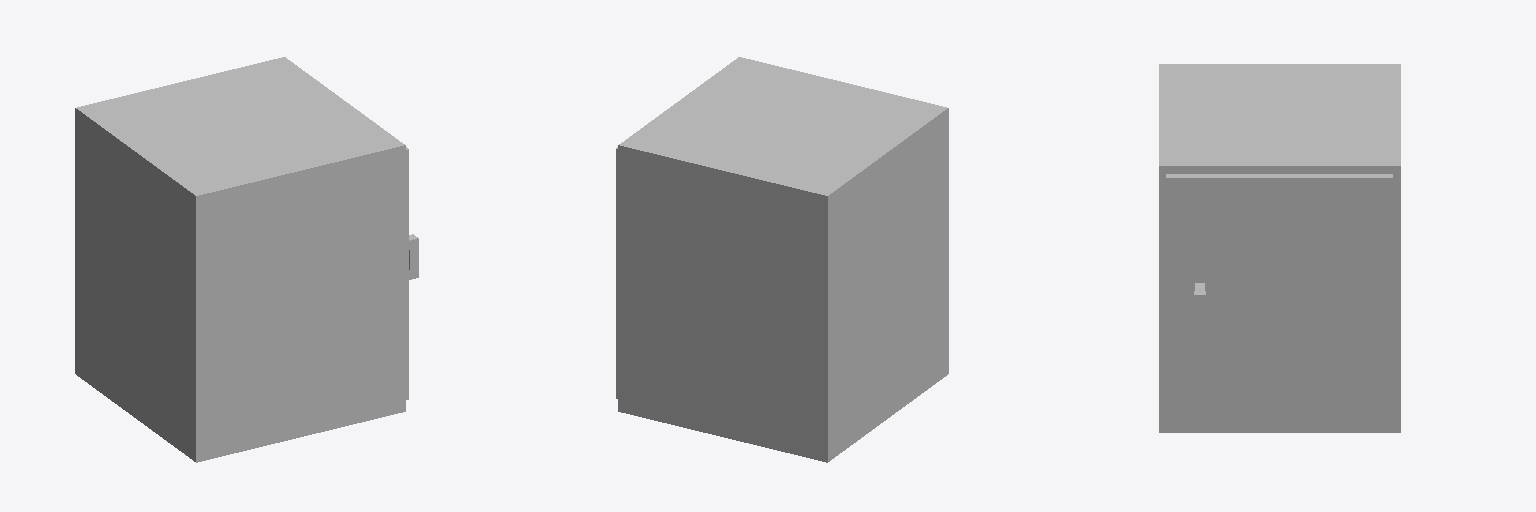
The model's file is regular closet(kitchen).obj.
The picture shows the model from 3 angles: view 1: azimuth 30°, elevation 25°; view 2: azimuth 150°, elevation 25°; view 3: azimuth 270°, elevation 25°; orthographic projection.
Visible parts, largest first — view 1: Cube, Cube.001; view 2: Cube; view 3: Cube.001, Cube.
Part boxes in pixels (bbox=[...]): Cube: bbox=[75, 57, 405, 462]; Cube.001: bbox=[406, 147, 408, 399]; Cube: bbox=[618, 57, 948, 462]; Cube.001: bbox=[1166, 174, 1392, 427]; Cube: bbox=[1159, 64, 1400, 432].
Bounding box in the file's own units: 2.3 × 2.44 × 2.